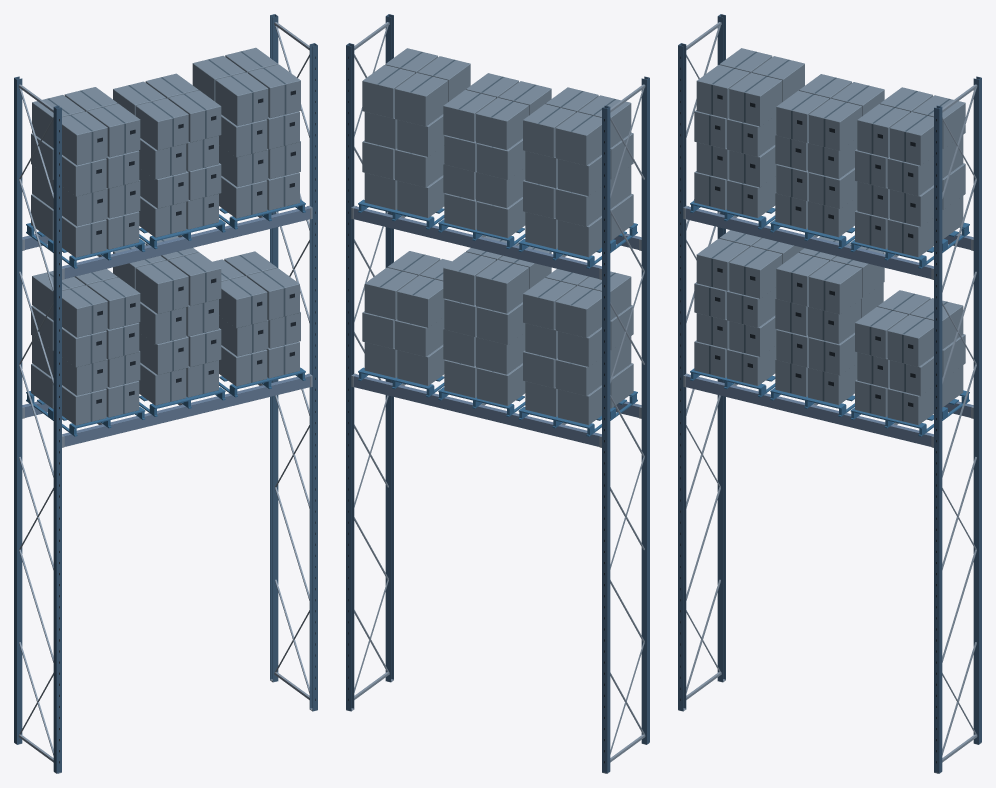
Rendered from SM_GHS_V2Rack_D1_W37619.fbx.
The picture shows the model from 3 angles, left to right: view 1: azimuth 30°, elevation 25°; view 2: azimuth 150°, elevation 25°; view 3: azimuth 330°, elevation 25°; orthographic projection.
Visible parts, largest first — view 1: SM_GHS_V2Rack_D1_W37619; view 2: SM_GHS_V2Rack_D1_W37619; view 3: SM_GHS_V2Rack_D1_W37619.
Boxes of the visible parts, x1,y1,x2,y2 form: SM_GHS_V2Rack_D1_W37619: (14,14,317,773); SM_GHS_V2Rack_D1_W37619: (346,14,649,773); SM_GHS_V2Rack_D1_W37619: (678,14,981,773).
Bounding box in the file's own units: 376 × 122 × 915.
